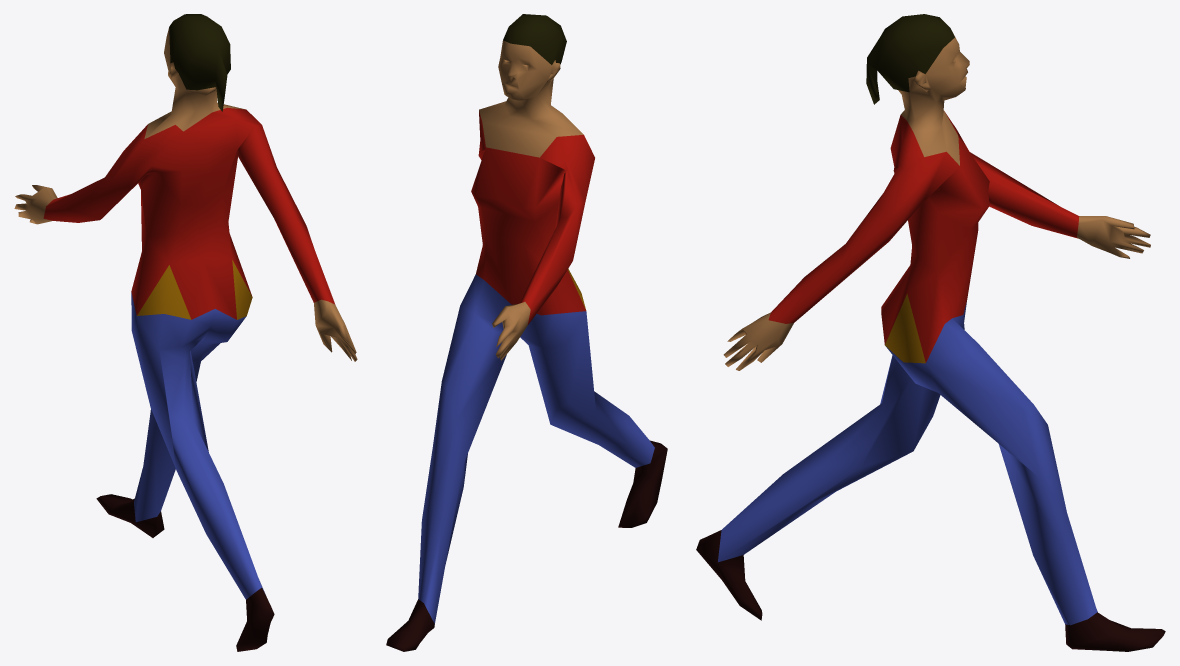
Rendered from personlowpoly_000006.obj.
3 views of the same model, side by side, from view 1: azimuth 30°, elevation 25°; view 2: azimuth 150°, elevation 25°; view 3: azimuth 270°, elevation 25° (orthographic). The views are drawn at different scales.
Visible parts, largest first — view 1: Cube; view 2: Cube; view 3: Cube.
Part boxes in pixels (x1=…): Cube: x1=14, y1=14, x2=357, y2=651; Cube: x1=386, y1=14, x2=667, y2=651; Cube: x1=696, y1=14, x2=1165, y2=651.
Size of the model in its own units: 24.66 by 89.02 by 61.36.
